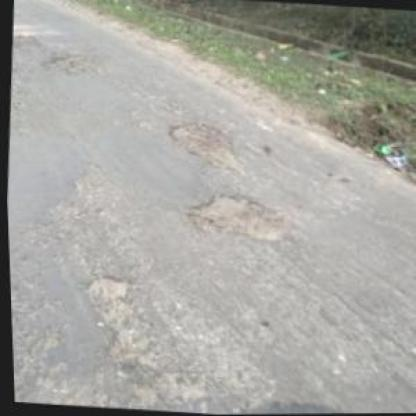pothole: (182, 187, 290, 247), (162, 118, 244, 175), (78, 272, 130, 309), (43, 50, 97, 79)
